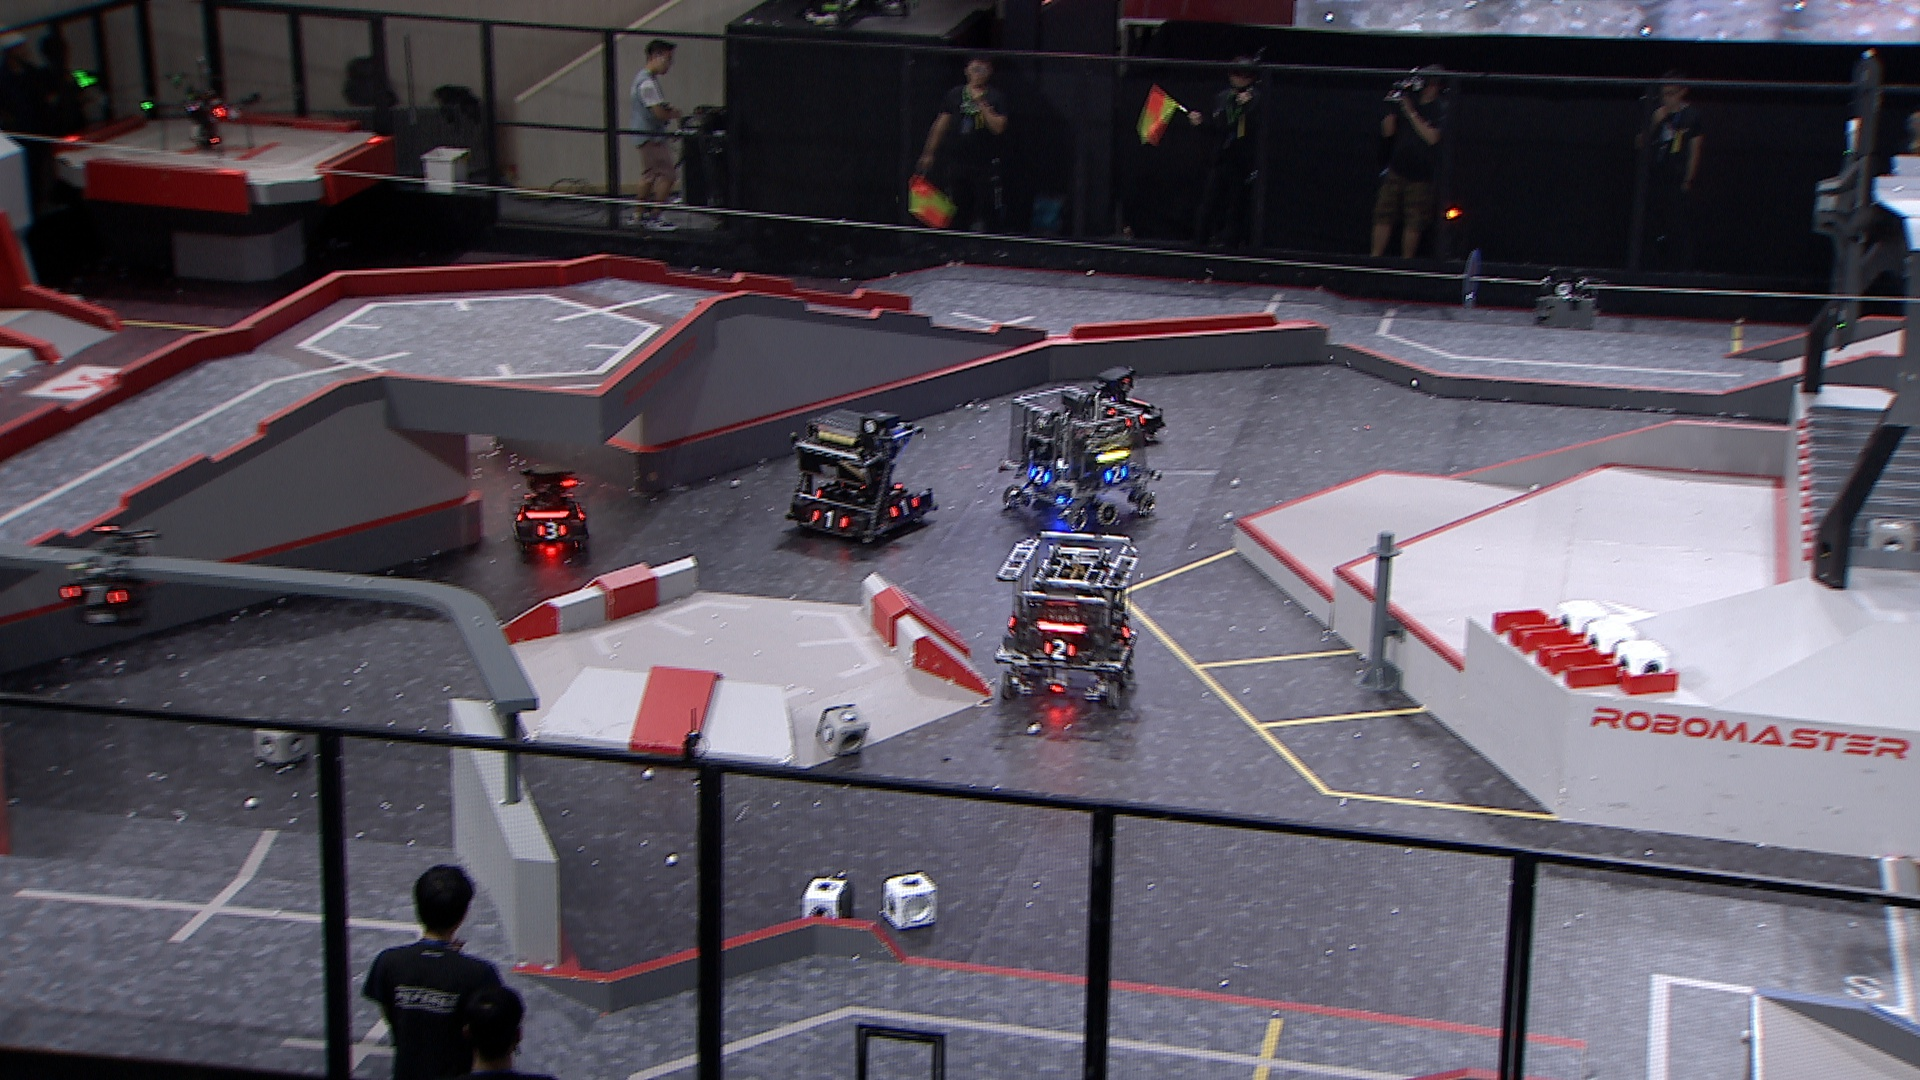armor: (59, 584, 128, 611), (808, 509, 855, 533), (533, 520, 570, 543), (1044, 638, 1077, 662), (885, 498, 920, 518), (1027, 465, 1054, 487), (1102, 465, 1131, 484)
car: (989, 529, 1141, 716), (998, 385, 1164, 531), (789, 401, 940, 553), (505, 463, 595, 559), (1079, 365, 1168, 443)
watcher: (51, 526, 164, 629)
